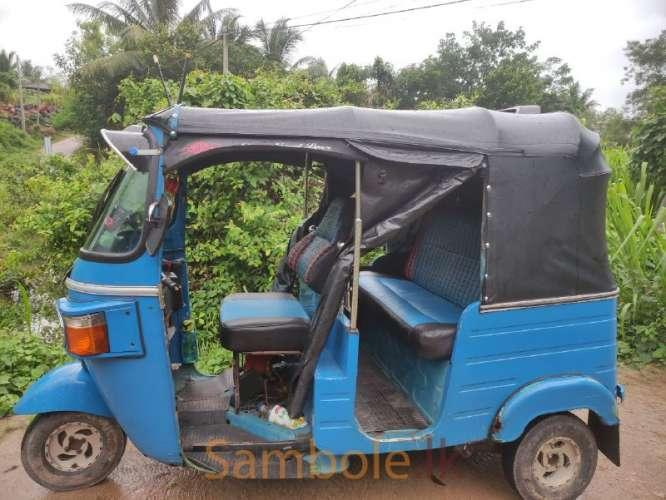threewheel: (11, 102, 624, 500)
